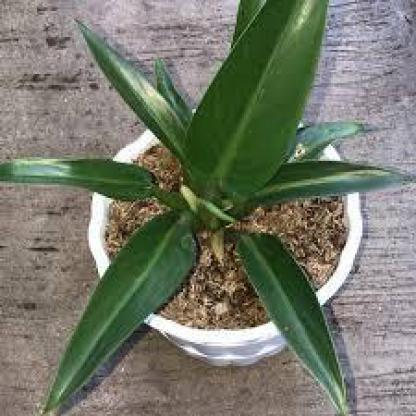Melati: (160, 153, 359, 335), (1, 53, 192, 197), (246, 290, 295, 362), (116, 251, 169, 299), (273, 172, 317, 219), (80, 172, 113, 219)
